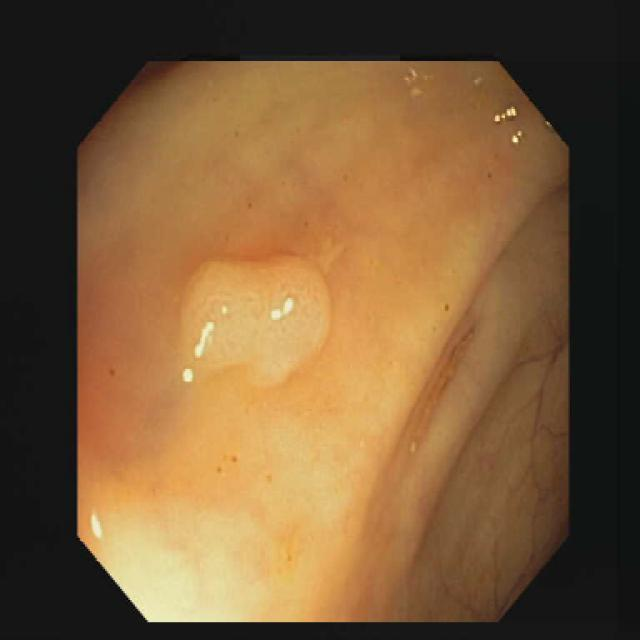tumor: (183, 260, 330, 384)
